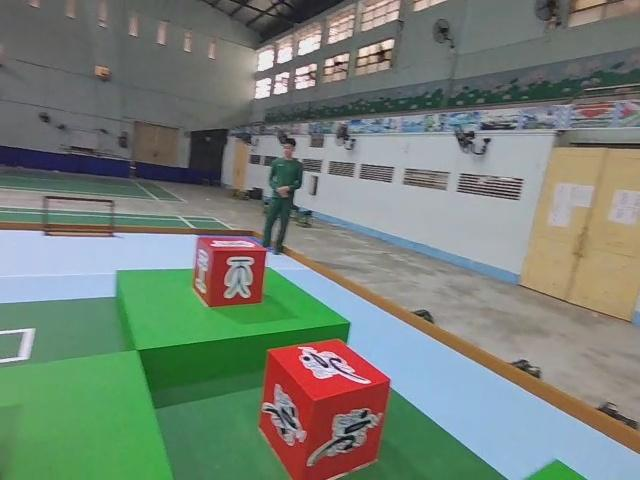R1: (257, 336, 392, 480)
R2 Fake: (192, 235, 267, 307)
